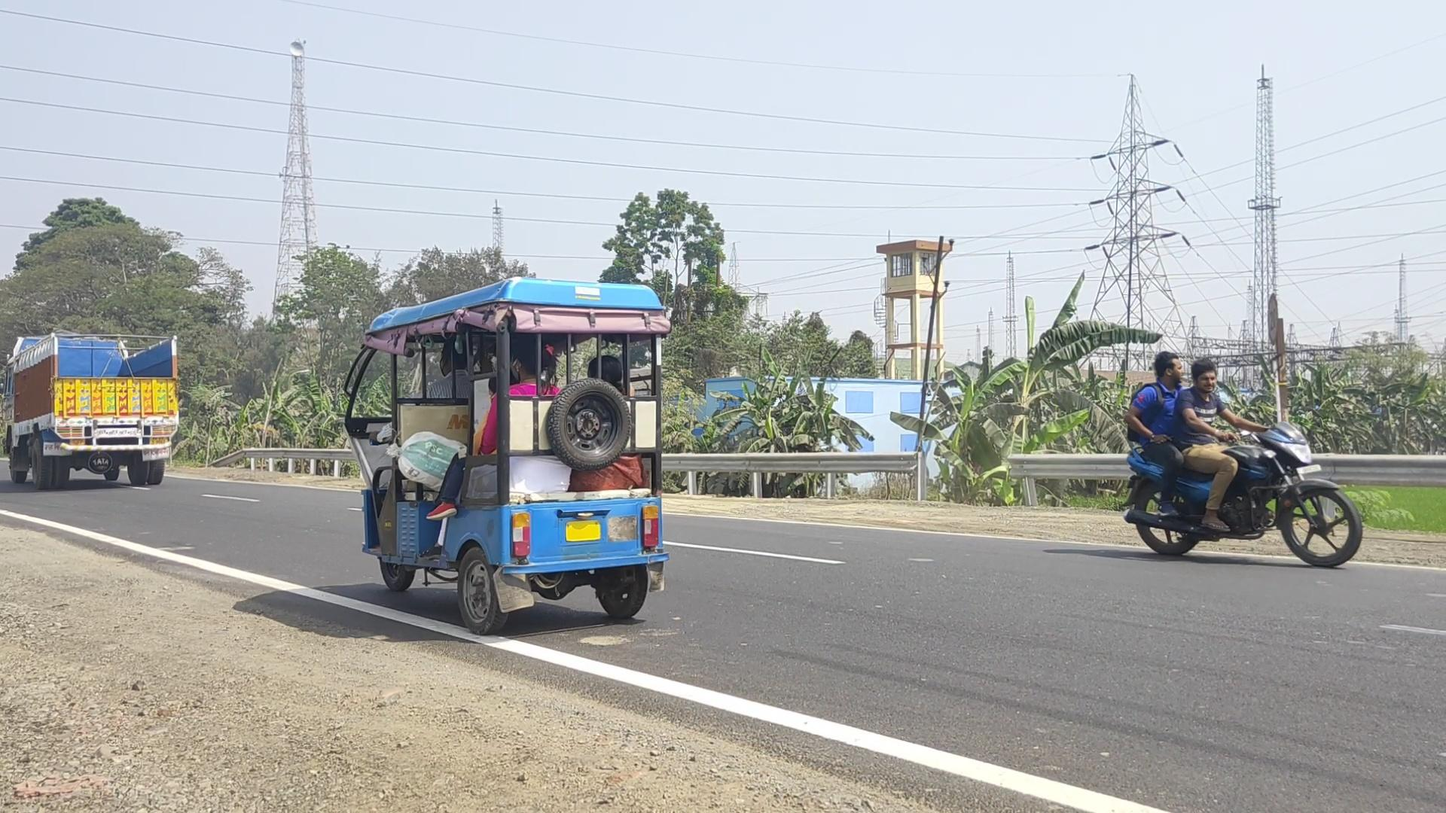Auto: (340, 278, 670, 637)
bike: (1121, 352, 1362, 568)
truck: (1, 330, 179, 490)
